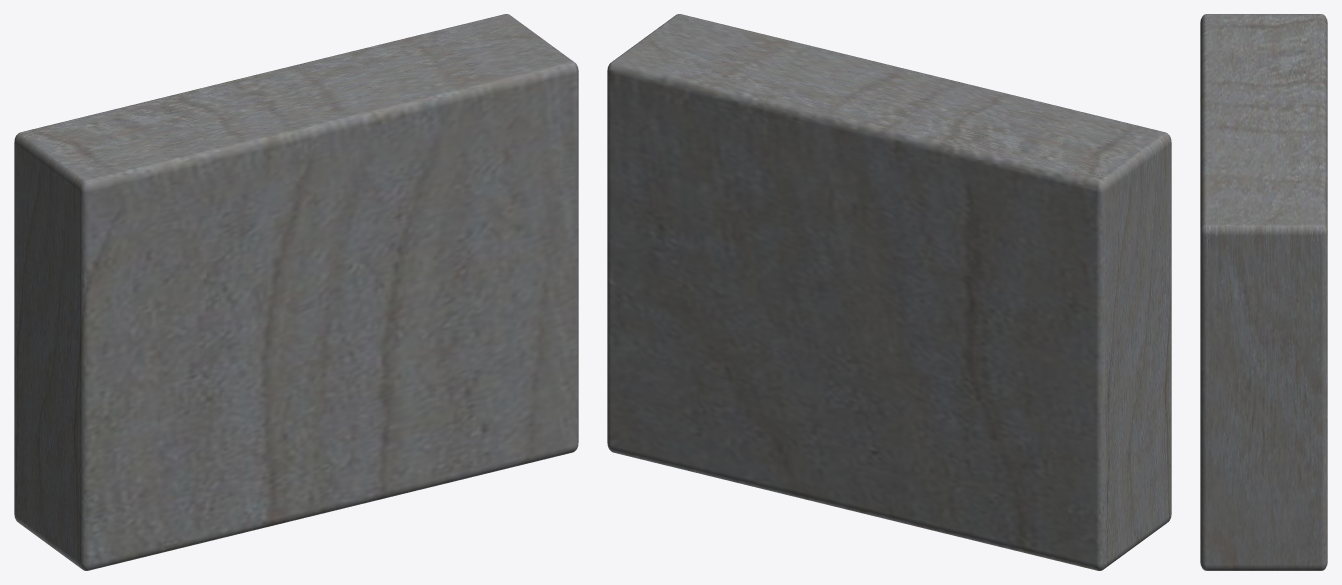
Rendered from OuterWall.obj.
3 renders of one model, left to right at view 1: azimuth 30°, elevation 25°; view 2: azimuth 150°, elevation 25°; view 3: azimuth 270°, elevation 25°, orthographic. The views are drawn at different scales.
Parts seen in each view (by area): view 1: OuterWall; view 2: OuterWall; view 3: OuterWall.
Boxes of the visible parts, box(x1,y1,x2,y2) form: OuterWall: box(14, 14, 578, 570); OuterWall: box(607, 14, 1171, 570); OuterWall: box(1200, 14, 1327, 570).
Size of the model in its own units: 400 by 300 by 100.
1 material, 1 textured.
